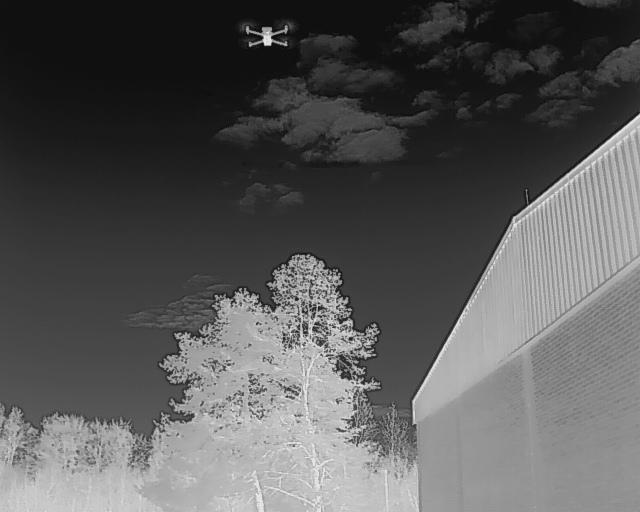drone: (235, 15, 300, 55)
